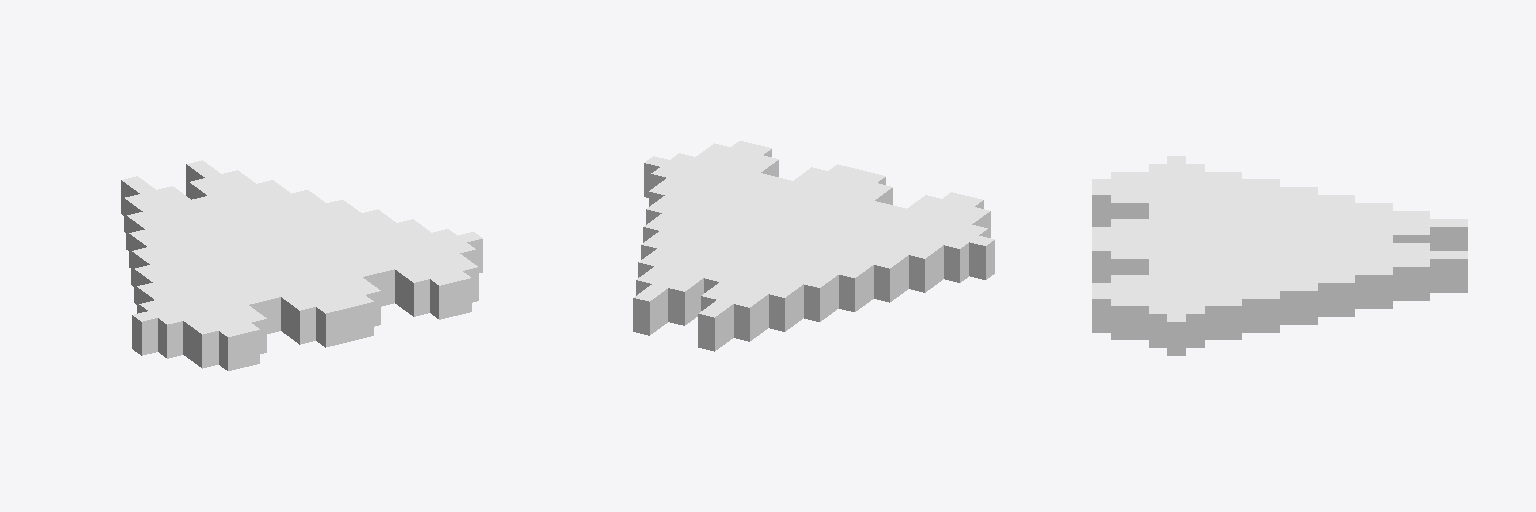
The model's file is enemy_3.obj.
3 renders of one model, left to right at view 1: azimuth 30°, elevation 25°; view 2: azimuth 150°, elevation 25°; view 3: azimuth 270°, elevation 25°, orthographic.
Parts seen in each view (by area): view 1: object 1; view 2: object 1; view 3: object 1.
Boxes of the visible parts, x1,y1,x2,y2 form: object 1: [121, 160, 482, 370]; object 1: [633, 141, 994, 351]; object 1: [1092, 156, 1467, 355].
Size of the model in its own units: 2.1 by 0.2 by 2.